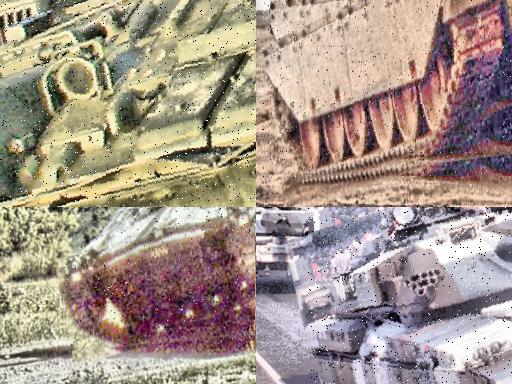tanks: (1, 1, 257, 208), (263, 1, 512, 181), (309, 208, 512, 384), (64, 208, 257, 348), (257, 208, 352, 279)
